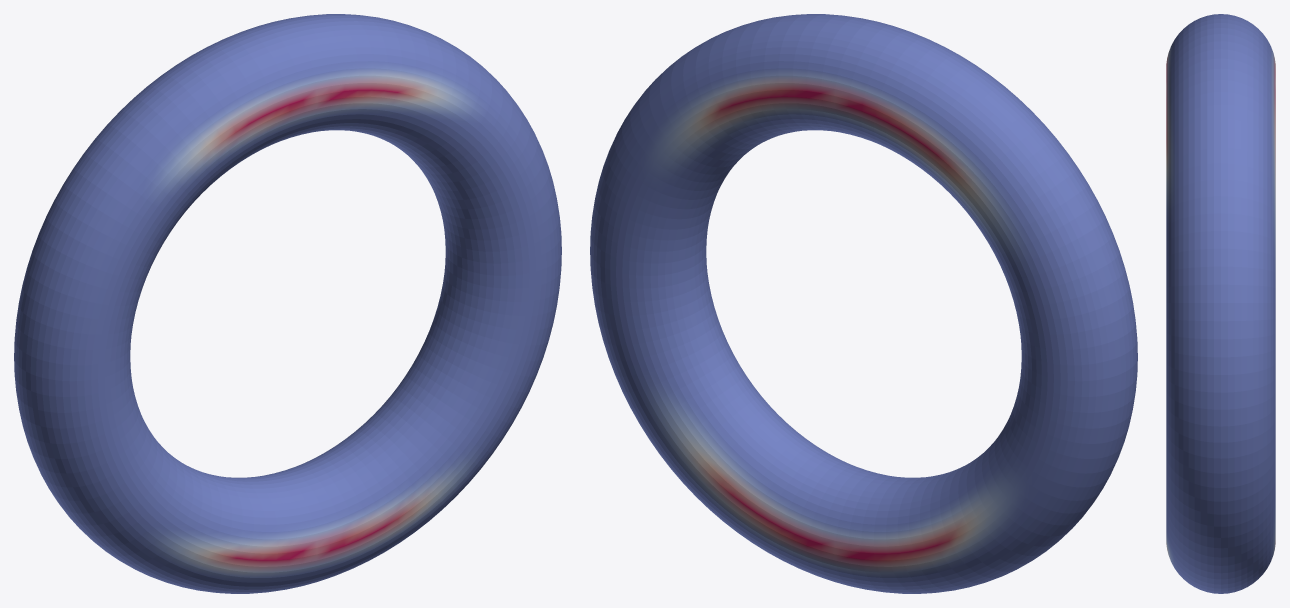
3 views of the same model, side by side, from view 1: azimuth 30°, elevation 25°; view 2: azimuth 150°, elevation 25°; view 3: azimuth 270°, elevation 25° (orthographic). The views are drawn at different scales.
Parts seen in each view (by area): view 1: world; view 2: world; view 3: world.
Part boxes in pixels (x1=…): world: x1=14, y1=14, x2=561, y2=593; world: x1=590, y1=14, x2=1137, y2=593; world: x1=1166, y1=14, x2=1275, y2=593.
Size of the model in its own units: 14.8 by 14.8 by 2.79.
